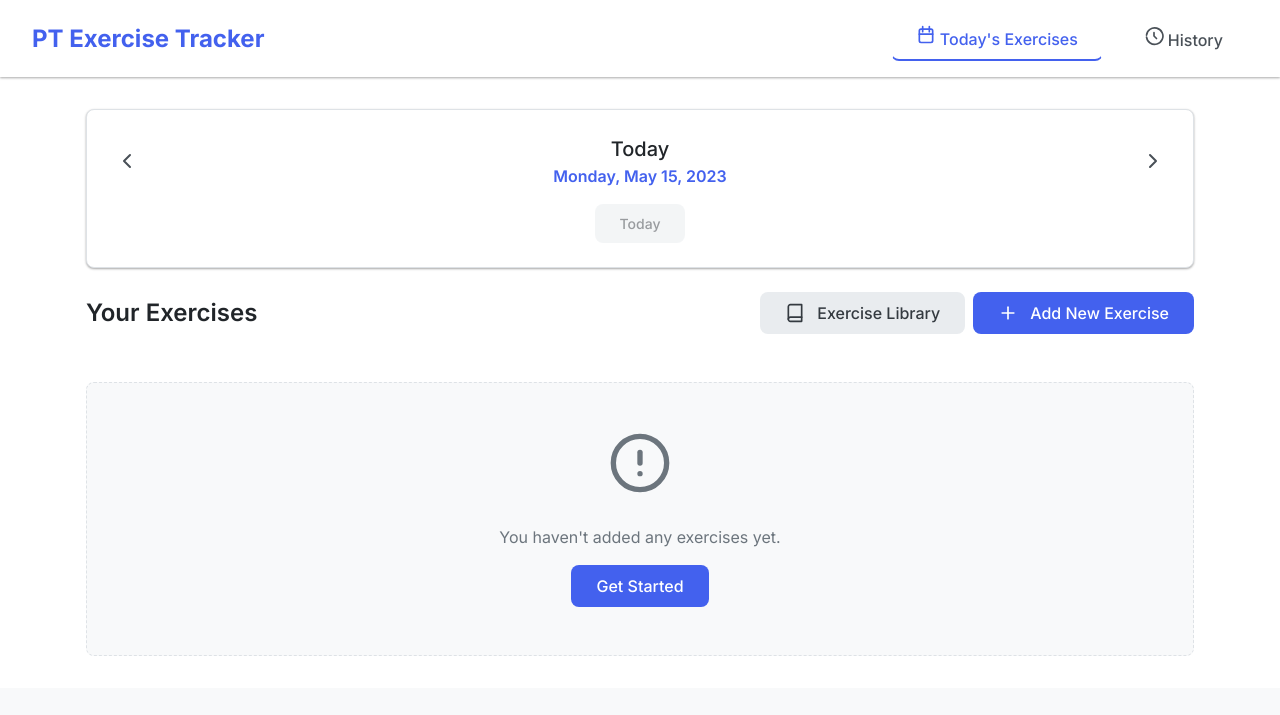
Test: Integration Tests › Viewing History › should show empty history message when no exercises completed
// Go to history tab
Click the button "History". click: (1183, 38)
box: [1119, 16, 1248, 61]
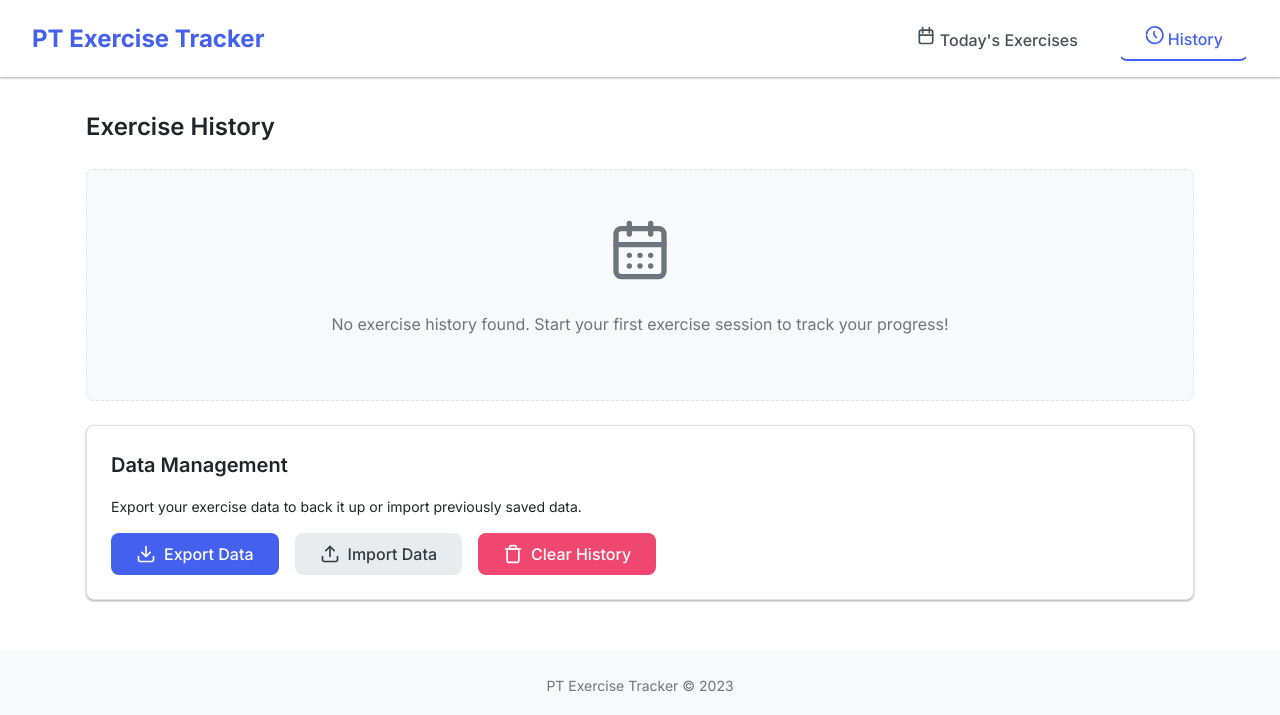
Expected: the text "No exercise history found" is shown, [331, 314, 949, 334]
